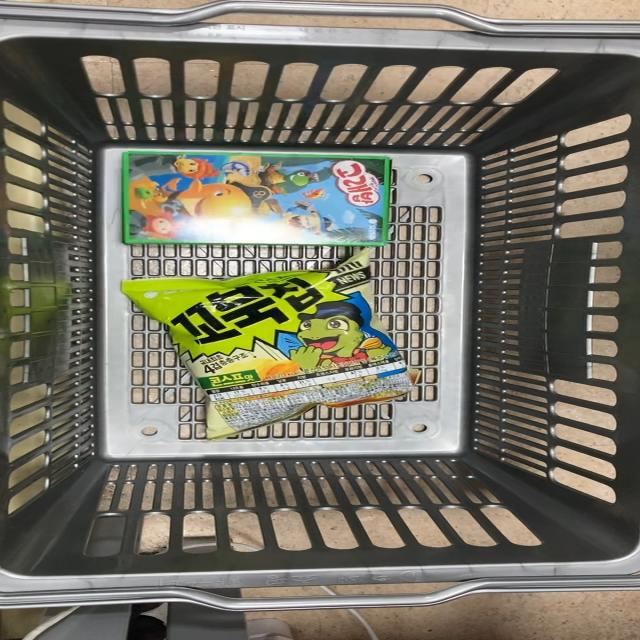ggobukchip: (118, 264, 440, 436)
goraebob: (96, 138, 408, 248)
